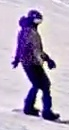snowboarder: (12, 10, 69, 125)
